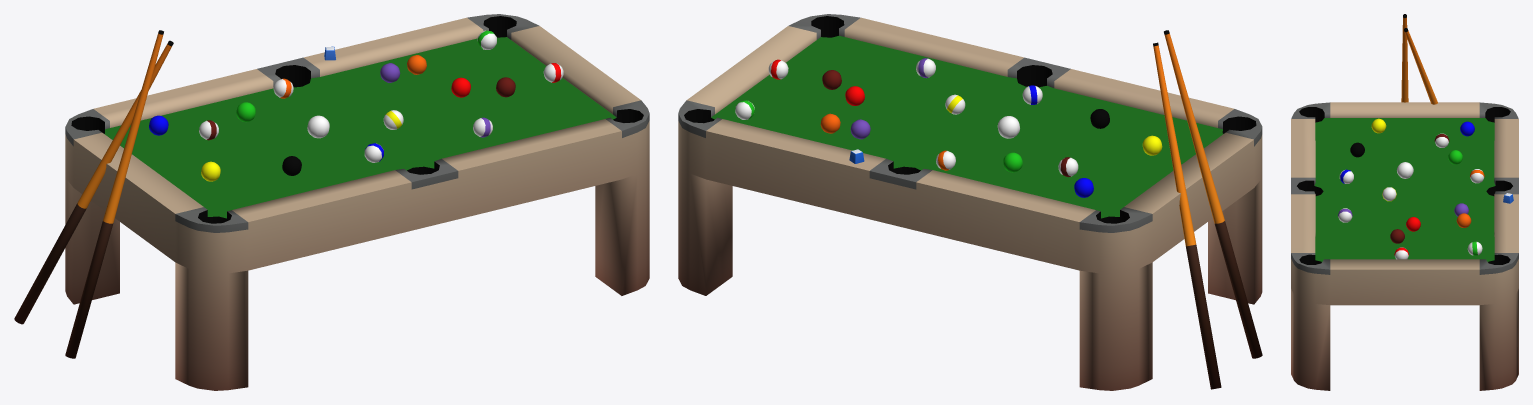
File: Billiard.fbx
3 views of the same model, side by side, from view 1: azimuth 30°, elevation 25°; view 2: azimuth 150°, elevation 25°; view 3: azimuth 270°, elevation 25° (orthographic). The views are drawn at different scales.
Visible parts, largest first — view 1: Billiard; view 2: Billiard; view 3: Billiard.
Part boxes in pixels (left/top/right/bottom): Billiard: left=14, top=14, right=649, bottom=390; Billiard: left=678, top=14, right=1262, bottom=390; Billiard: left=1291, top=14, right=1518, bottom=390.
Size of the model in its own units: 2.89 by 1.6 by 1.47.
